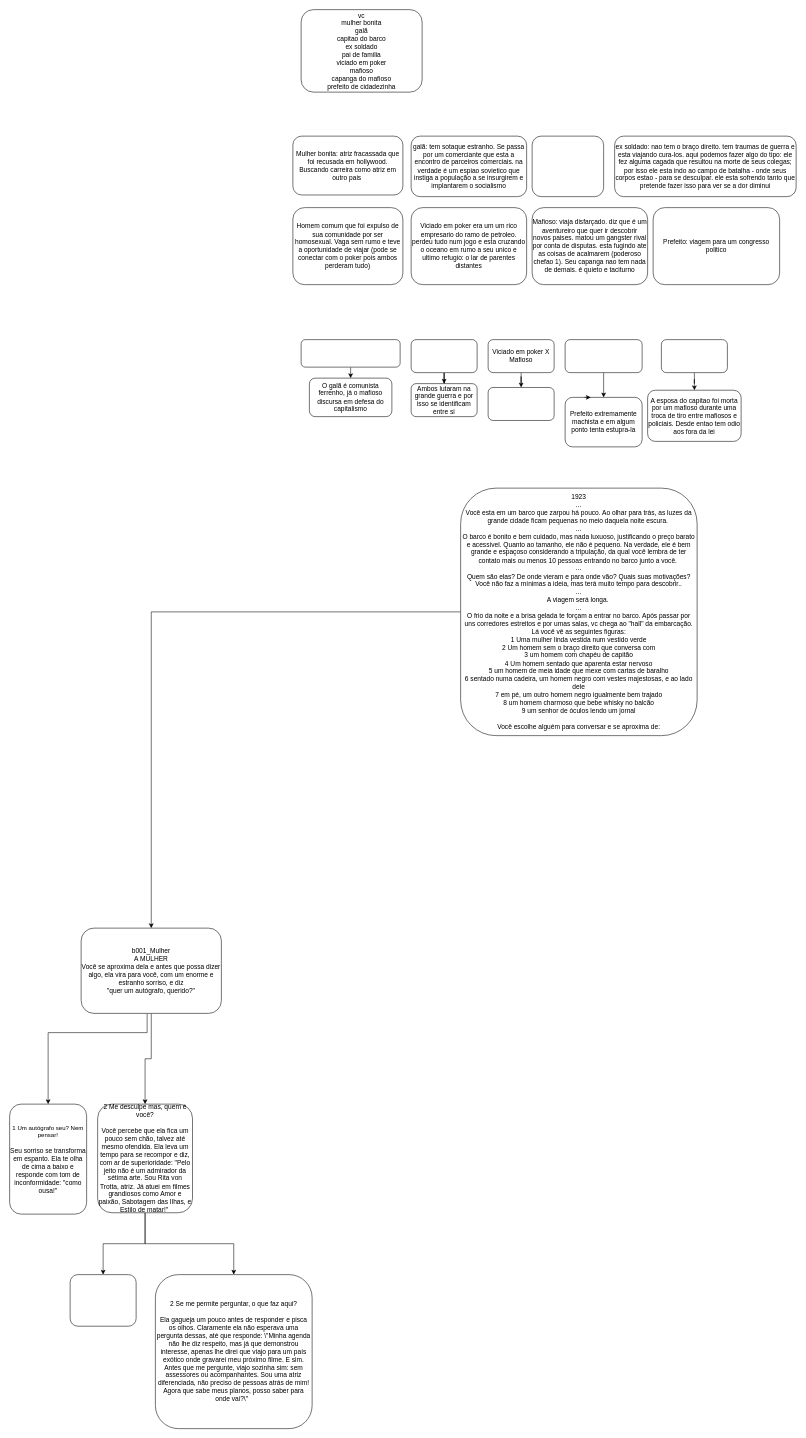
Some shapes in this 806 by 1438 pixel diagram are drawn without their labels. Here are the shapes that lost their labels. From the top down, the centre of each, then its label:
At pixel 568 166: "Capitao do barco: apenas o capitao do barco (podemos ter mais coisa pra ele)".
At pixel 350 353: "Galã sovietico X mafioso".
At pixel 444 356: "Capitão e ex-soldado".
At pixel 603 356: "Prefeito X Moça bonita".
At pixel 694 356: "Capitao do barco X mafioso".
At pixel 521 403: "viciado é racista e o mafioso é negro".
At pixel 103 1300: "1 Hm, bom para voce Você se entedia da arrogância da mulher e se afasta".
